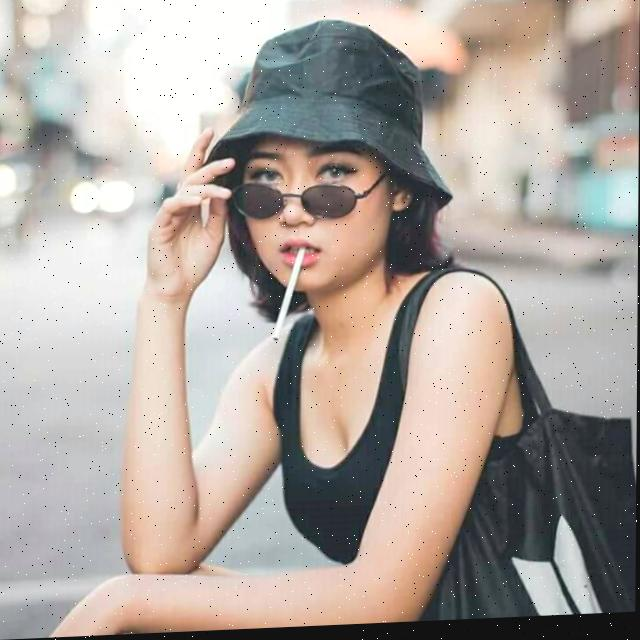cigarette: (272, 249, 306, 344)
